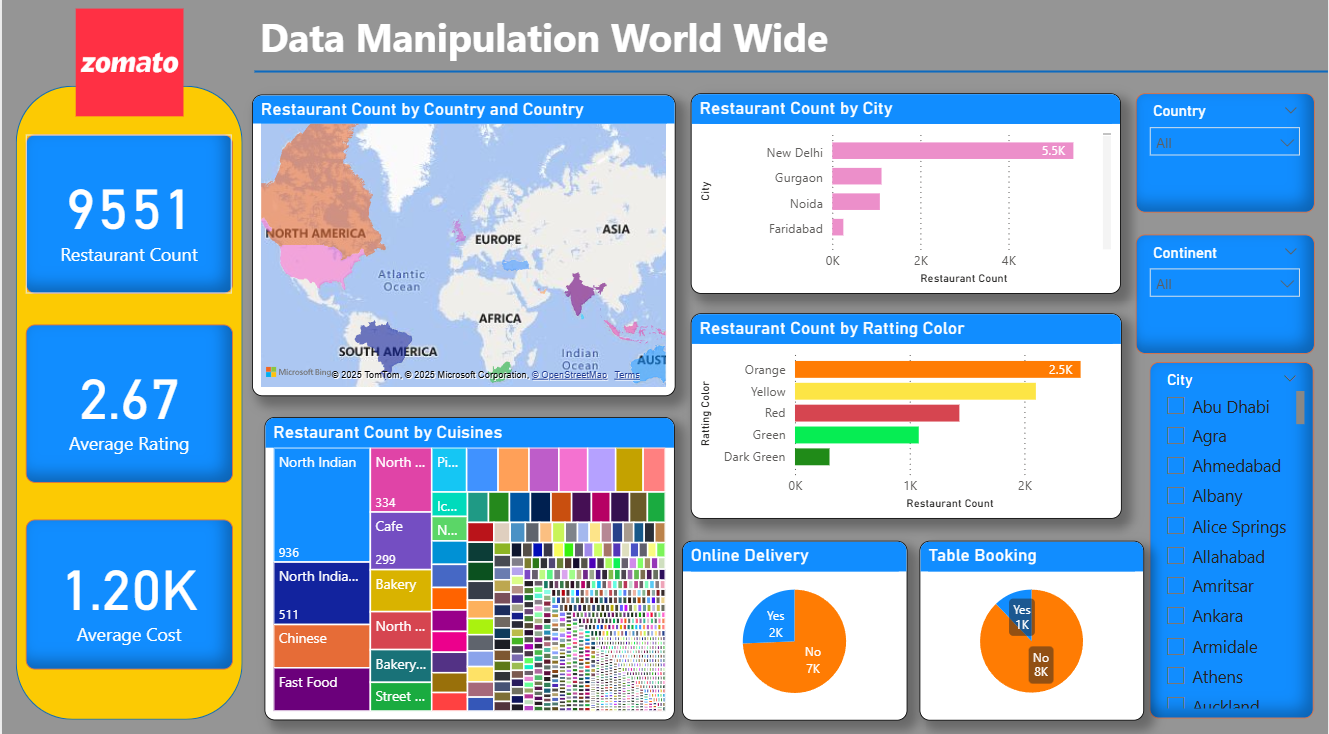

The page's visual inventory and layout, read from the dashboard file:
{"tool":"powerbi","page":{"name":"Page 1","canvas":[1280,720],"ordinal":0},"visuals":[{"type":"shape","box":[13,91,219,612],"z":0},{"type":"card","fields":{"Values":["Fact-Table.Average Cost"]},"box":[22.5,508.8,200,145],"z":1000},{"type":"card","fields":{"Values":["Fact-Table.Average Rating"]},"box":[22.5,321.2,200,152.5],"z":2000},{"type":"card","fields":{"Values":["Zomato Global.Restaurant Count"]},"box":[22.5,137.5,200,153.8],"z":3000},{"type":"filledMap","fields":{"Category":["Country-Code.Country"],"Series":["Country-Code.Country"]},"box":[241.4,98.6,408.6,291.4],"z":4000},{"type":"treemap","fields":{"Values":["Zomato Global.Restaurant Count"],"Group":["Zomato Global.Cuisines"]},"box":[253,410,396,293],"z":5000},{"type":"slicer","fields":{"Values":["Country-Code.Country"]},"box":[1093.8,97.5,172.5,115],"z":6000},{"type":"slicer","fields":{"Values":["Country-Code.Continent"]},"box":[1093.8,233.8,172.5,115],"z":7000},{"type":"slicer","fields":{"Values":["Zomato Global.City"]},"box":[1107.5,357.5,158.8,343.8],"z":8000},{"type":"textbox","box":[243.8,13.8,571.2,77.5],"z":9000},{"type":"image","box":[66.4,0,113.4,136.3],"z":10000},{"type":"shape","box":[243.8,55,1036.2,42.5],"z":11000},{"type":"clusteredBarChart","fields":{"Y":["Zomato Global.Restaurant Count"],"Category":["Zomato Global.City"]},"box":[665,97.5,415,193.8],"z":12000},{"type":"clusteredBarChart","fields":{"Category":["Fact-Table.Ratting Color"],"Y":["Zomato Global.Restaurant Count"]},"box":[665,310,416.2,198.8],"z":13000},{"type":"pieChart","title":"Online Delivery ","fields":{"Category":["Fact-Table.Has Online delivery"],"Y":["Zomato Global.Restaurant Count"]},"box":[656.2,530,217.5,173.8],"z":14000},{"type":"pieChart","title":"Table Booking","fields":{"Y":["Zomato Global.Restaurant Count"],"Category":["Fact-Table.Has Table booking"]},"box":[885.6,530,216.7,173.3],"z":15000}]}

Visuals, with their boxes in screenshot pixels (x1, y1, x2, y2), scaled from the page's 1280x720 canvas onto the 1329x734 screenshot:
shape: (13, 93, 241, 717)
card - Fact-Table.Average Cost: (23, 519, 231, 667)
card - Fact-Table.Average Rating: (23, 327, 231, 483)
card - Zomato Global.Restaurant Count: (23, 140, 231, 297)
filledMap - Country-Code.Country x Country-Code.Country: (251, 101, 675, 398)
treemap - Zomato Global.Restaurant Count x Zomato Global.Cuisines: (263, 418, 674, 717)
slicer - Country-Code.Country: (1136, 99, 1315, 217)
slicer - Country-Code.Continent: (1136, 238, 1315, 356)
slicer - Zomato Global.City: (1150, 364, 1315, 715)
textbox: (253, 14, 846, 93)
image: (69, 0, 187, 139)
shape: (253, 56, 1328, 99)
clusteredBarChart - Zomato Global.Restaurant Count x Zomato Global.City: (690, 99, 1121, 297)
clusteredBarChart - Fact-Table.Ratting Color x Zomato Global.Restaurant Count: (690, 316, 1123, 519)
"Online Delivery " pieChart: (681, 540, 907, 717)
"Table Booking" pieChart: (920, 540, 1144, 717)
